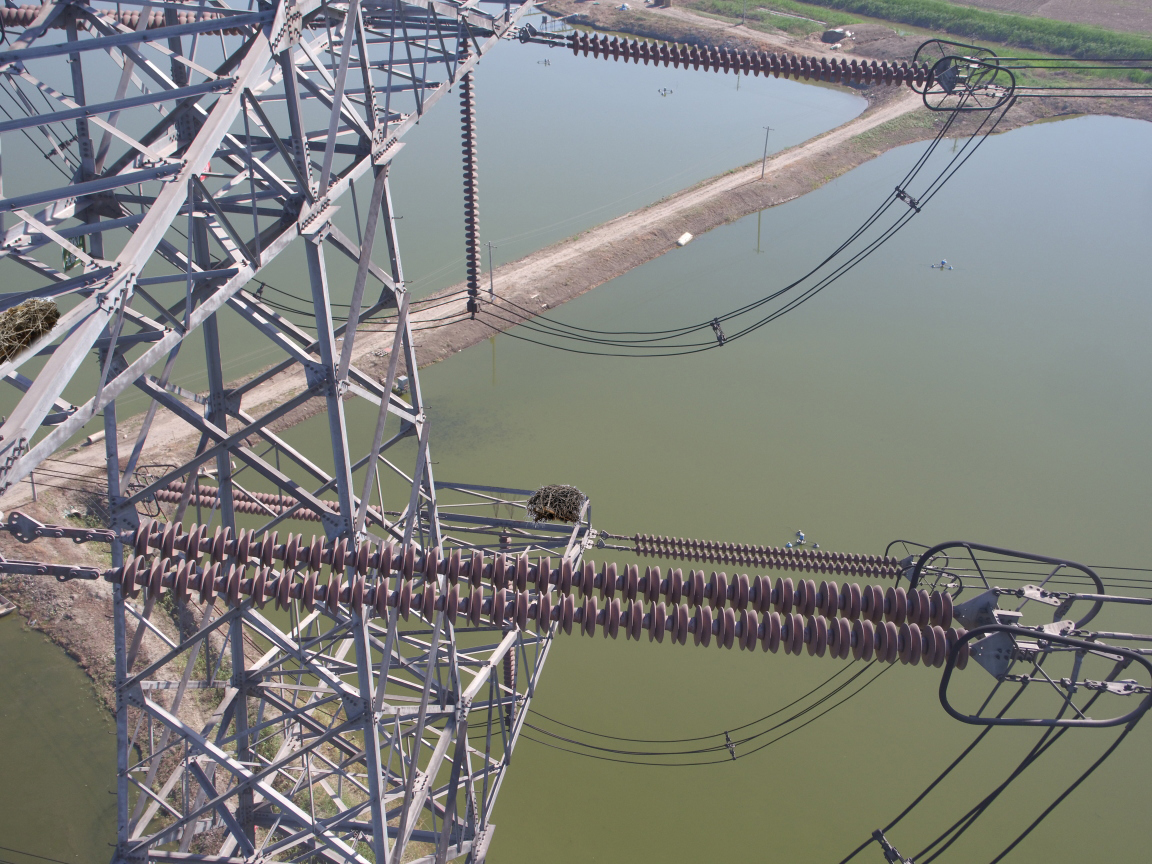nest: (1, 288, 61, 374), (522, 481, 589, 526)
